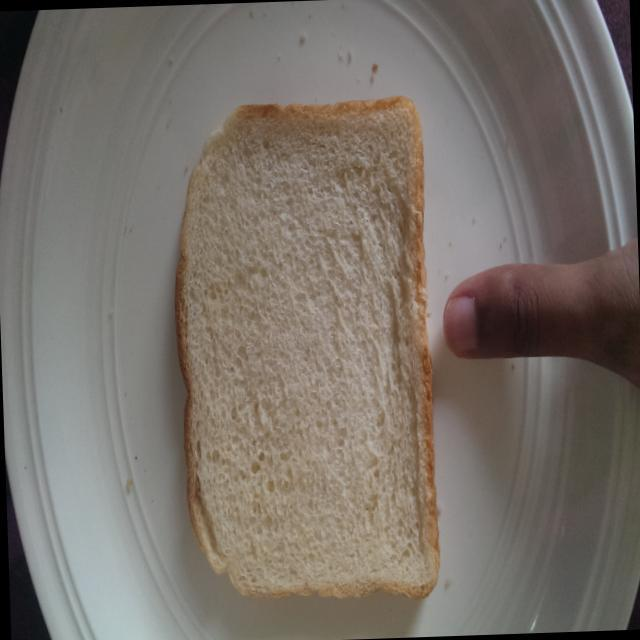Bread: (158, 76, 452, 628)
Finger: (436, 257, 575, 375)
